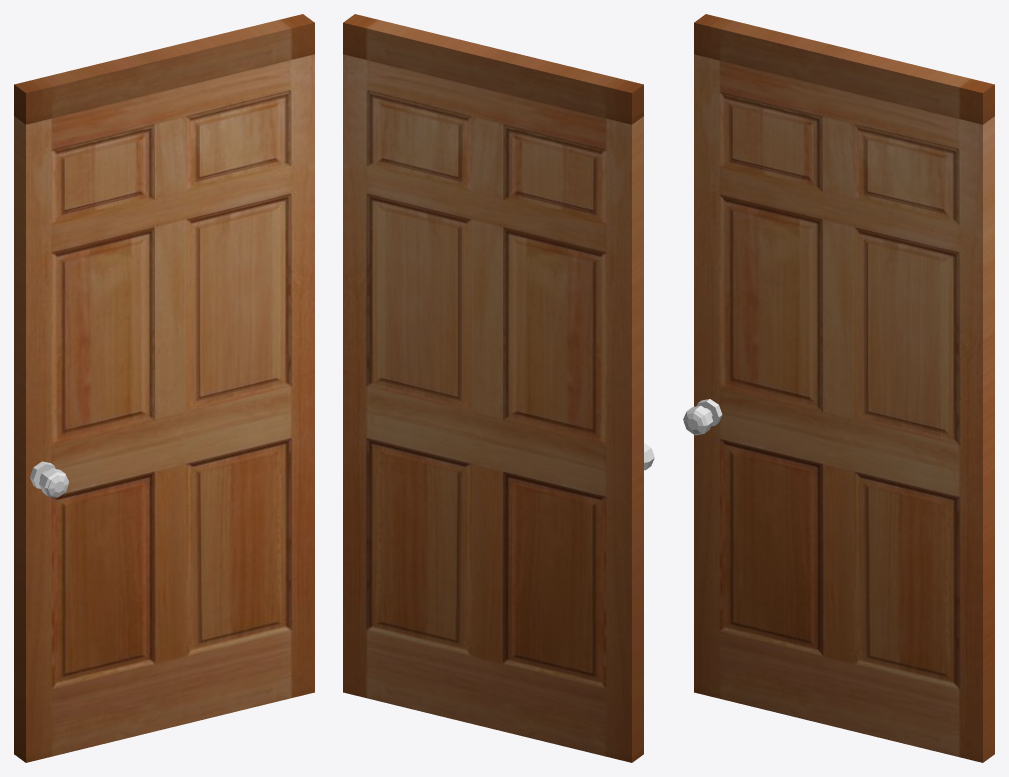
File: FinalDoor.fbx
3 views of the same model, side by side, from view 1: azimuth 30°, elevation 25°; view 2: azimuth 150°, elevation 25°; view 3: azimuth 330°, elevation 25° (orthographic).
Visible parts, largest first — view 1: MainDoor, MainDoorKnob; view 2: MainDoor; view 3: MainDoor, MainDoorKnob.
Boxes of the visible parts, x1,y1,x2,y2 form: MainDoor: (14, 14, 314, 762); MainDoorKnob: (30, 461, 68, 497); MainDoor: (343, 14, 643, 762); MainDoor: (694, 14, 994, 762); MainDoorKnob: (683, 399, 722, 435).
Size of the model in its own units: 6.59 by 14.61 by 1.16.
